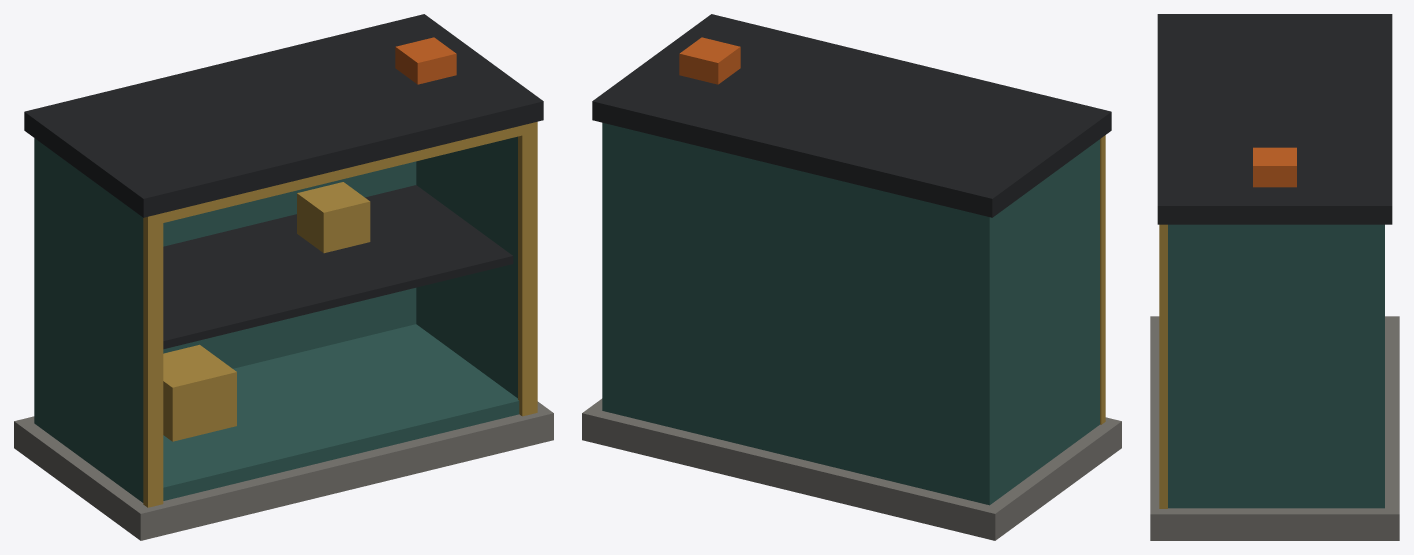
The model's file is poi_req_locker.glb.
3 views of the same model, side by side, from view 1: azimuth 30°, elevation 25°; view 2: azimuth 150°, elevation 25°; view 3: azimuth 270°, elevation 25° (orthographic).
Parts seen in each view (by area): view 1: ReqLocker; view 2: ReqLocker; view 3: ReqLocker.
Part boxes in pixels (box(x1,y1,x2,y2)): ReqLocker: box(14, 14, 553, 540); ReqLocker: box(582, 14, 1121, 540); ReqLocker: box(1150, 14, 1399, 540).
Size of the model in its own units: 3.2 by 2.66 by 1.7.
